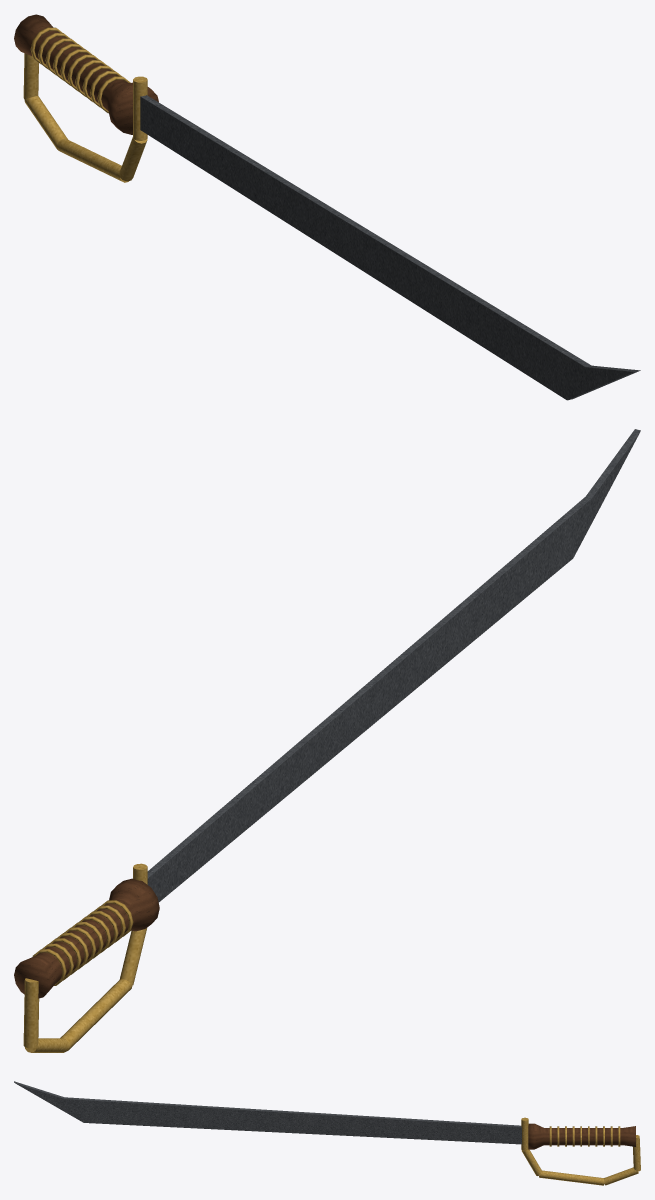
The model's file is sabre_1809.glb.
The picture shows the model from 3 angles, top to bottom: view 1: azimuth 30°, elevation 25°; view 2: azimuth 150°, elevation 25°; view 3: azimuth 270°, elevation 25°; orthographic projection. The views are drawn at different scales.
Parts seen in each view (by area): view 1: sabre_1809.body; view 2: sabre_1809.body; view 3: sabre_1809.body.
Part boxes in pixels (left/top/right/bottom): sabre_1809.body: left=14, top=14, right=640, bottom=400; sabre_1809.body: left=14, top=429, right=640, bottom=1052; sabre_1809.body: left=14, top=1081, right=640, bottom=1185.
Bounding box in the file's own units: 0.042 × 0.1796 × 0.9875.
3 materials, 3 textured.
